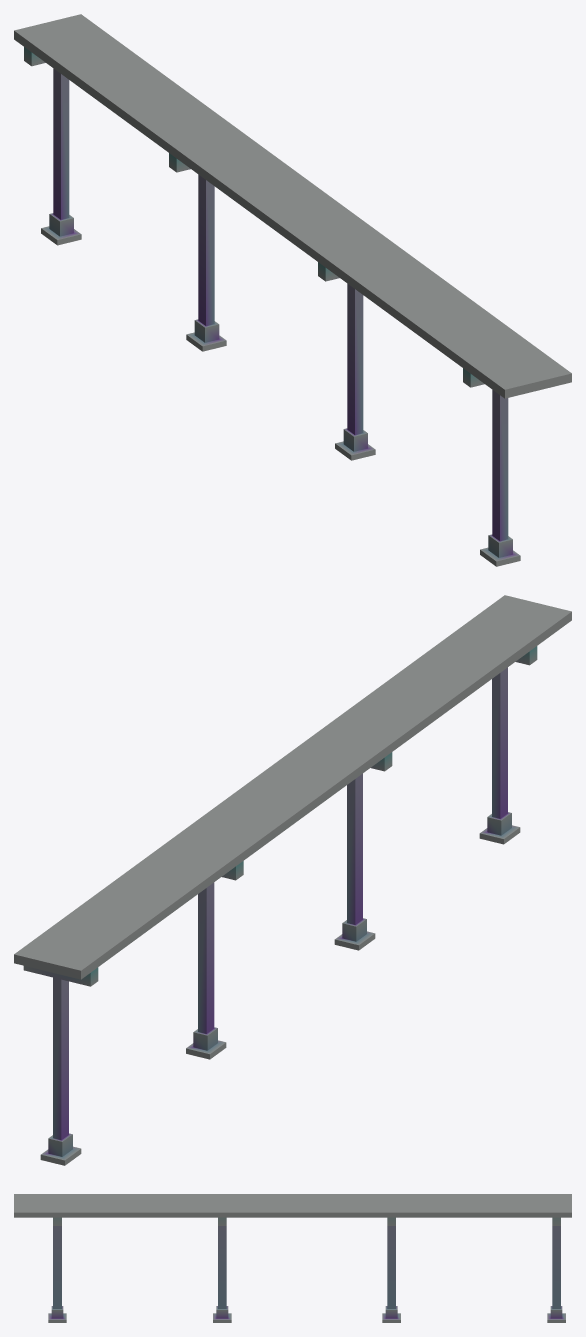
The picture shows the model from 3 angles, top to bottom: view 1: azimuth 30°, elevation 25°; view 2: azimuth 150°, elevation 25°; view 3: azimuth 270°, elevation 25°; orthographic projection. The views are drawn at different scales.
Parts seen in each view (by area): view 1: slab, foot_plate.002, foot_plate, foot_plate.003, foot_plate.001; view 2: slab, foot_plate.003, foot_plate.002, foot_plate, foot_plate.001; view 3: slab, foot_plate.003, foot_plate, foot_plate.002, foot_plate.001.
Part boxes in pixels (x1,y1,x2,y2): slab: (14,14,571,398); foot_plate.002: (169,153,226,351); foot_plate: (463,368,520,566); foot_plate.003: (24,47,81,245); foot_plate.001: (318,262,375,460); slab: (14,595,571,979); foot_plate.003: (23,966,98,1165); foot_plate.002: (186,861,243,1059); foot_plate: (479,646,537,844); foot_plate.001: (334,752,392,950); slab: (14,1194,571,1217); foot_plate.003: (547,1217,565,1322); foot_plate: (48,1217,66,1322); foot_plate.002: (382,1217,400,1322); foot_plate.001: (213,1217,231,1322).
Bounding box in the file's own units: 0.2375 × 0.689 × 3.
